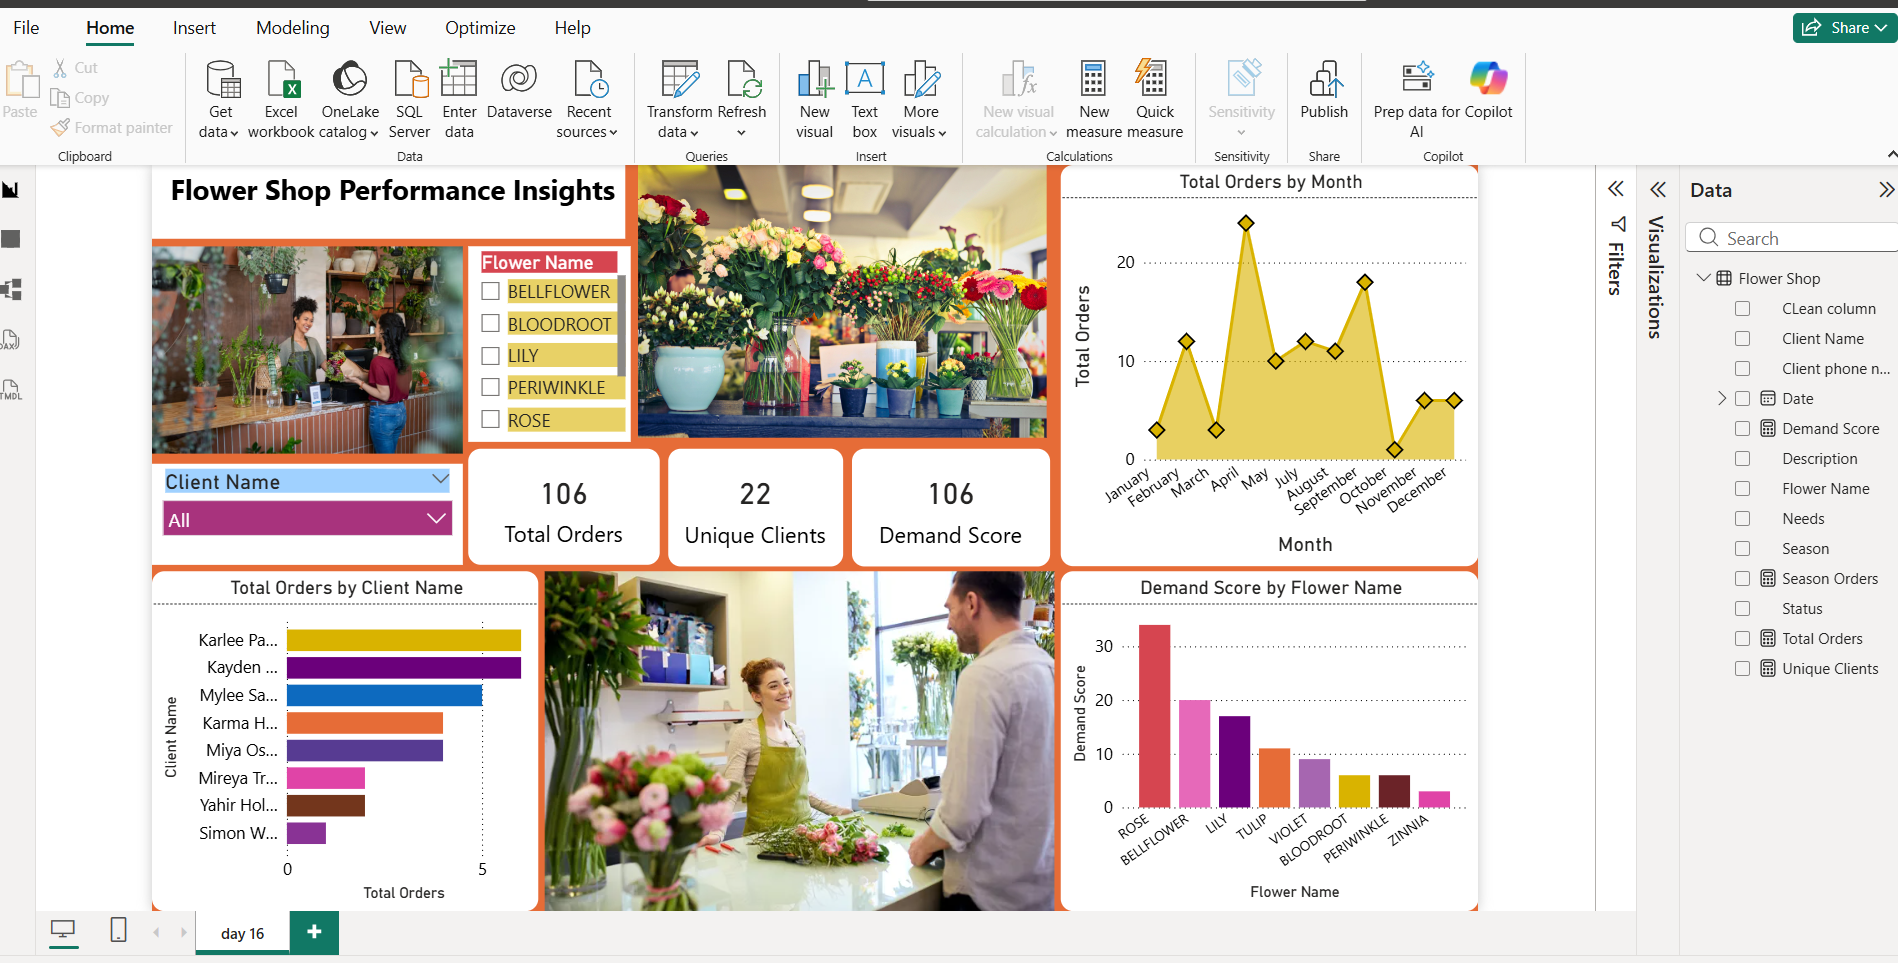

What the dashboard file says about the page in this screenshot:
{"tool":"powerbi","page":{"name":"day 16","canvas":[1280,720],"ordinal":0},"visuals":[{"type":"card","fields":{"Values":["Flower Shop.Total Orders"]},"box":[304.9,274.1,185.2,112.3],"z":0},{"type":"card","fields":{"Values":["Flower Shop.Unique Clients"]},"box":[498.8,274.1,169.1,113.6],"z":1000},{"type":"lineChart","fields":{"Category":["Flower Shop.Date.Variation.Date Hierarchy.Month"],"Y":["Flower Shop.Total Orders"]},"box":[877.1,0,402.9,387.1],"z":2000},{"type":"columnChart","fields":{"Category":["Flower Shop.Name"],"Y":["Flower Shop.Demand Score"]},"box":[876.8,392.5,403.4,328],"z":3000},{"type":"clusteredBarChart","fields":{"Category":["Flower Shop.Client Name"],"Y":["Flower Shop.Total Orders"]},"box":[0,392.6,372.8,328.4],"z":4000},{"type":"slicer","fields":{"Values":["Flower Shop.Flower Name"]},"box":[304.9,79,156.8,188.9],"z":5000},{"type":"textbox","box":[0,0,457.1,71.4],"z":6000},{"type":"image","box":[277.8,0,780.2,263],"z":7000},{"type":"image","box":[336.2,392.5,576.3,328],"z":8000},{"type":"image","box":[0,28.4,300,298.8],"z":9000},{"type":"slicer","fields":{"Values":["Flower Shop.Client Name"]},"box":[0,288.9,300,97.5],"z":10000},{"type":"card","fields":{"Values":["Flower Shop.Demand Score"]},"box":[675.3,274.1,191.4,113.6],"z":11000}]}

Visuals, with their boxes on the page's 1280x720 design canvas (x1, y1, x2, y2). These are canvas units, not pixel positions in the 1898x963 screenshot, which may show the page scaled, cropped or inside an application window:
card - Flower Shop.Total Orders: x1=305 y1=274 x2=490 y2=386
card - Flower Shop.Unique Clients: x1=499 y1=274 x2=668 y2=388
lineChart - Flower Shop.Date.Variation.Date Hierarchy.Month x Flower Shop.Total Orders: x1=877 y1=0 x2=1280 y2=387
columnChart - Flower Shop.Name x Flower Shop.Demand Score: x1=877 y1=392 x2=1280 y2=720
clusteredBarChart - Flower Shop.Client Name x Flower Shop.Total Orders: x1=0 y1=393 x2=373 y2=721
slicer - Flower Shop.Flower Name: x1=305 y1=79 x2=462 y2=268
textbox: x1=0 y1=0 x2=457 y2=71
image: x1=278 y1=0 x2=1058 y2=263
image: x1=336 y1=392 x2=912 y2=720
image: x1=0 y1=28 x2=300 y2=327
slicer - Flower Shop.Client Name: x1=0 y1=289 x2=300 y2=386
card - Flower Shop.Demand Score: x1=675 y1=274 x2=867 y2=388
